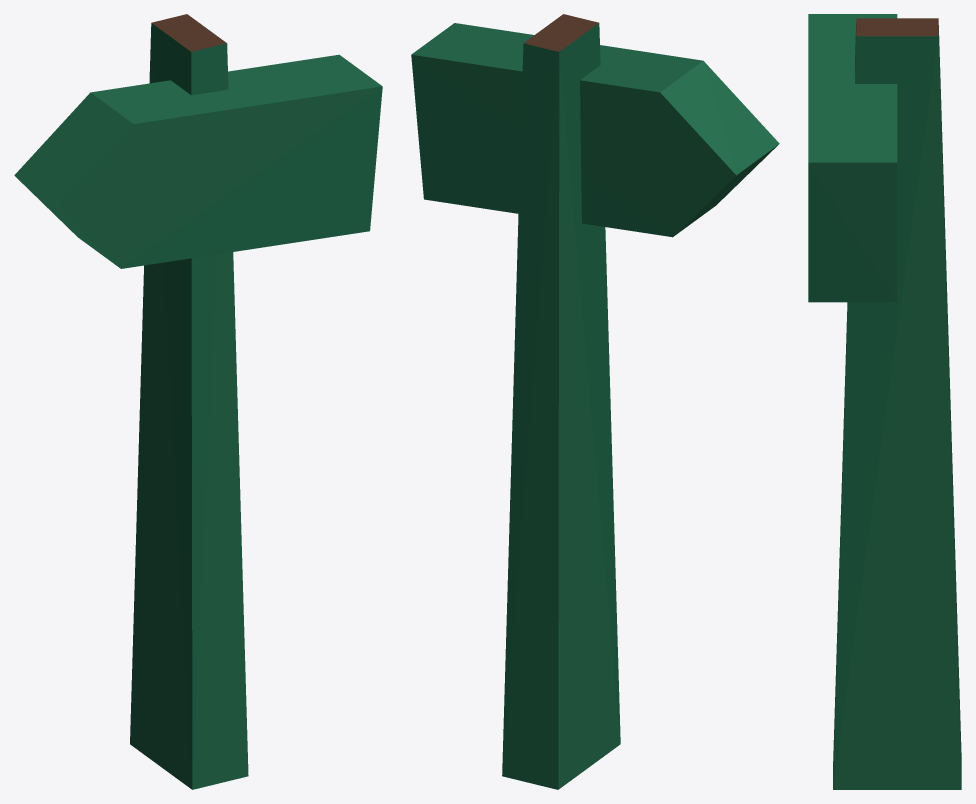
The model's file is dock-sign-mint.glb.
3 views of the same model, side by side, from view 1: azimuth 30°, elevation 25°; view 2: azimuth 150°, elevation 25°; view 3: azimuth 270°, elevation 25° (orthographic). The views are drawn at different scales.
Parts seen in each view (by area): view 1: dock-sign-mint; view 2: dock-sign-mint; view 3: dock-sign-mint.
Boxes of the visible parts, box(x1,y1,x2,y2) form: dock-sign-mint: box(14, 14, 382, 789); dock-sign-mint: box(411, 14, 779, 789); dock-sign-mint: box(808, 14, 961, 789).
Size of the model in its own units: 0.73 by 1.56 by 0.29.
